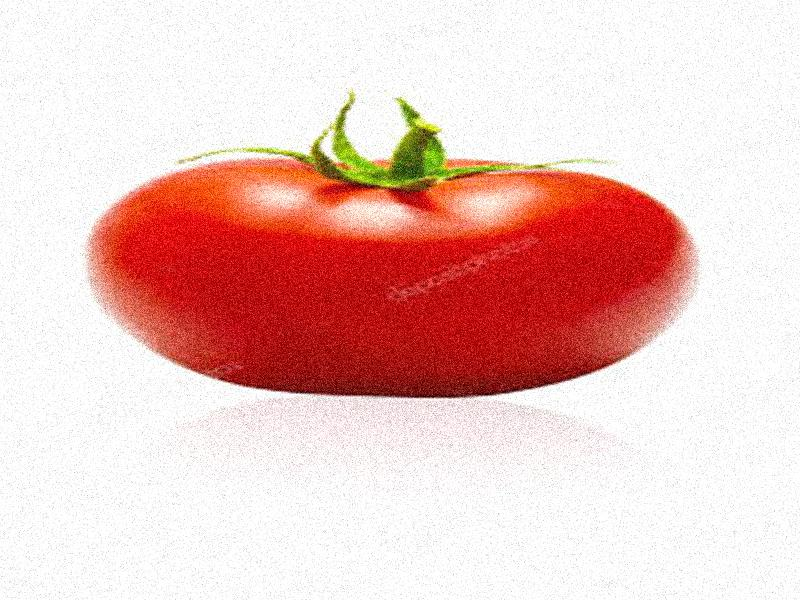Tomato: (83, 159, 699, 396)
